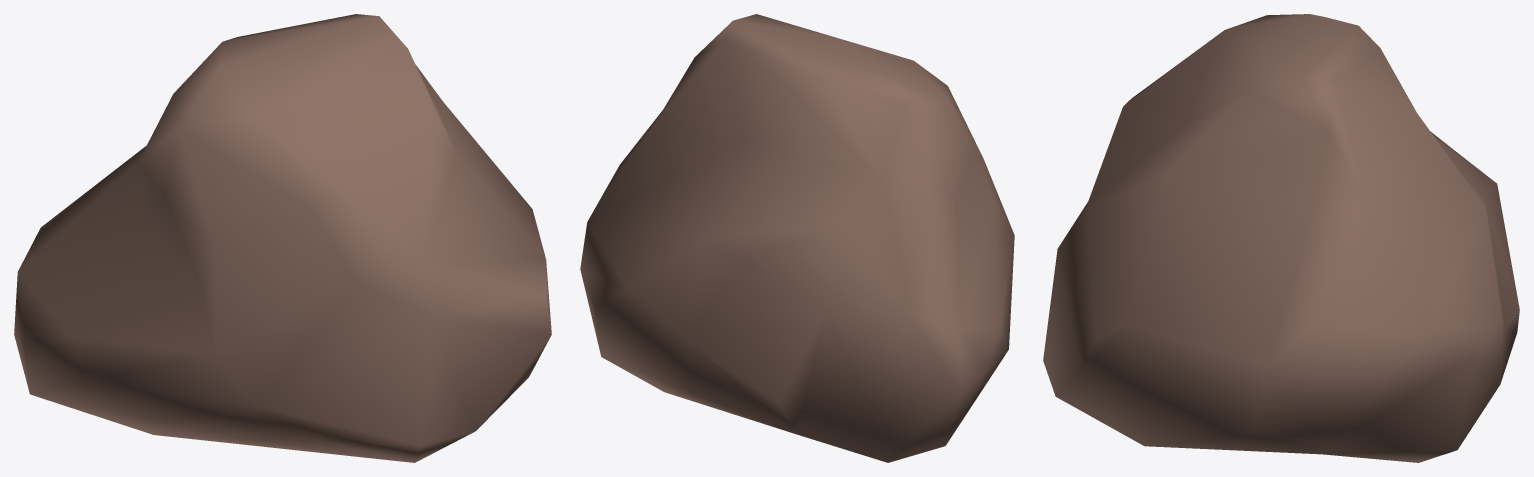
File: SM_SmallStone02.fbx
3 views of the same model, side by side, from view 1: azimuth 30°, elevation 25°; view 2: azimuth 150°, elevation 25°; view 3: azimuth 270°, elevation 25° (orthographic). The views are drawn at different scales.
Visible parts, largest first — view 1: SM_SmallStone02; view 2: SM_SmallStone02; view 3: SM_SmallStone02.
Part boxes in pixels (x1,y1,x2,y2): SM_SmallStone02: (14,14,551,462); SM_SmallStone02: (580,14,1014,462); SM_SmallStone02: (1043,14,1519,462).
Size of the model in its own units: 34.07 by 26.81 by 30.21.
